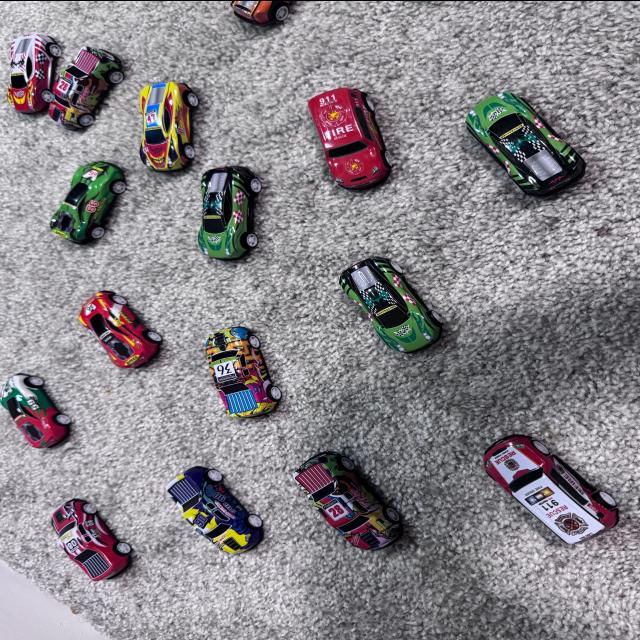Car: (473, 411, 640, 572), (451, 77, 617, 201), (321, 246, 498, 360), (0, 13, 143, 131), (296, 67, 414, 207), (117, 46, 220, 186), (32, 483, 129, 613), (303, 435, 406, 553), (74, 272, 168, 401), (165, 156, 264, 278), (162, 452, 252, 559), (46, 142, 130, 250), (210, 306, 274, 432), (4, 368, 60, 459)
